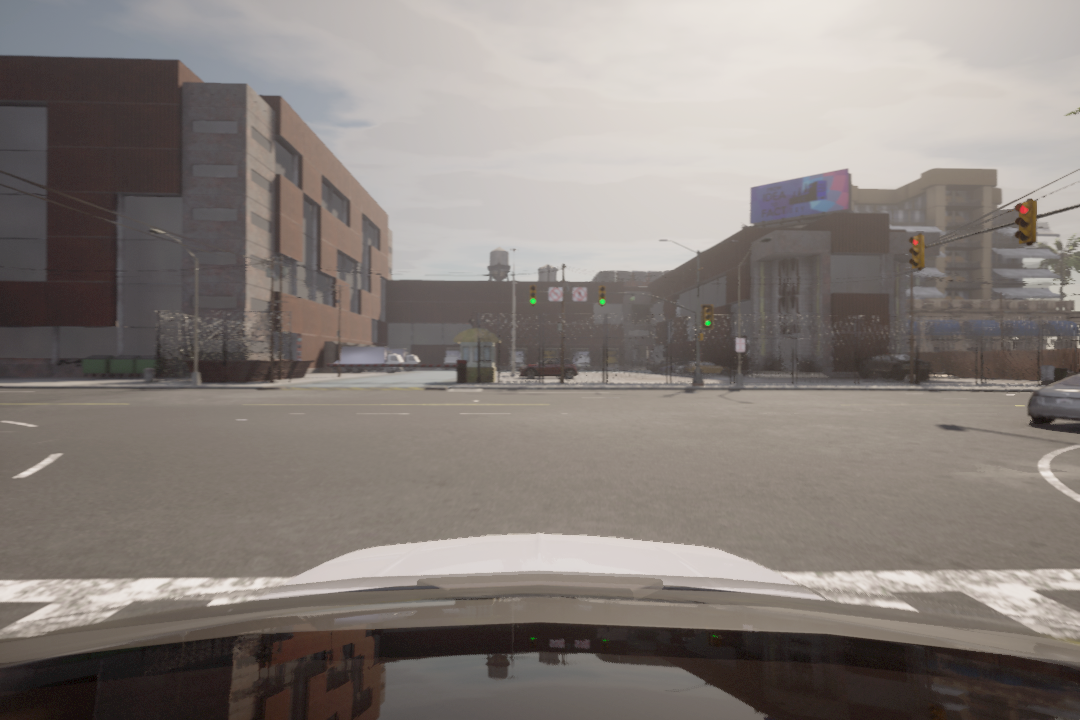TrafficLight: (1013, 203, 1039, 248), (910, 235, 925, 269), (702, 302, 717, 331), (598, 286, 607, 308), (530, 285, 537, 307)
TrafficSign: (574, 285, 590, 302), (549, 286, 562, 302)
